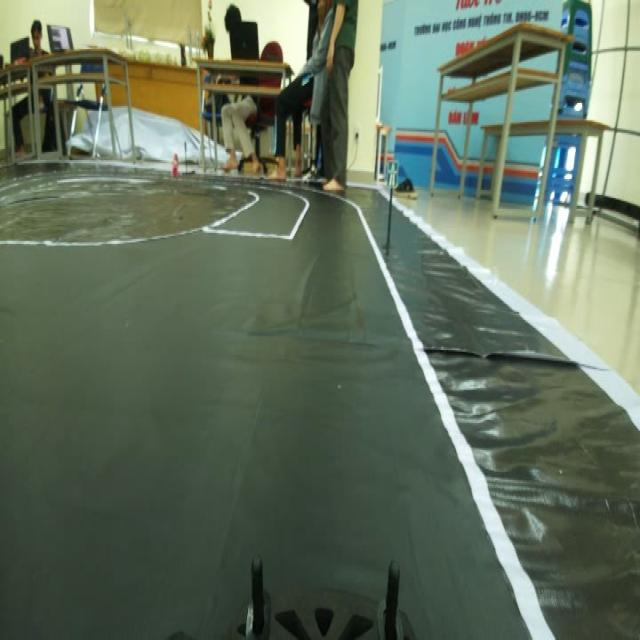highway_entry: (381, 154, 402, 195)
